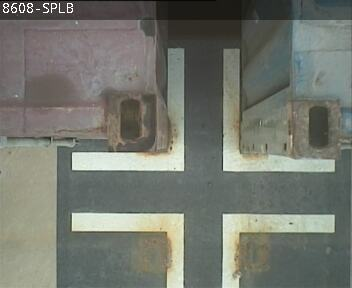groundmarker_1: (70, 49, 335, 171), (71, 211, 335, 288)
